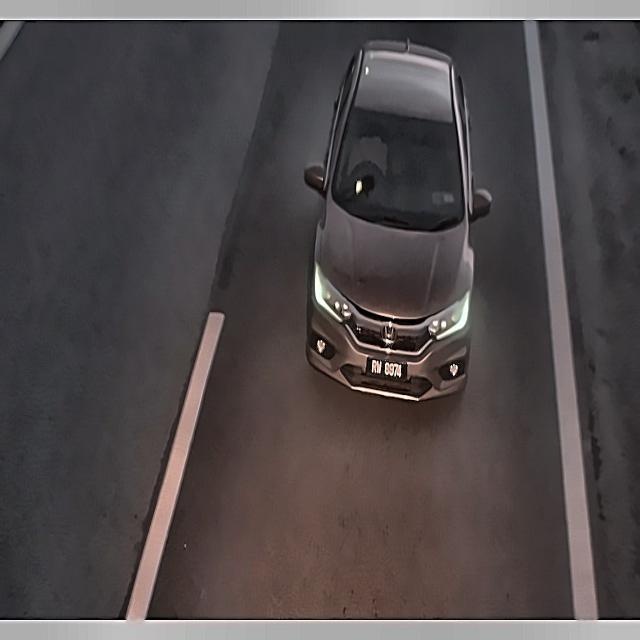car: (365, 355, 408, 386)
